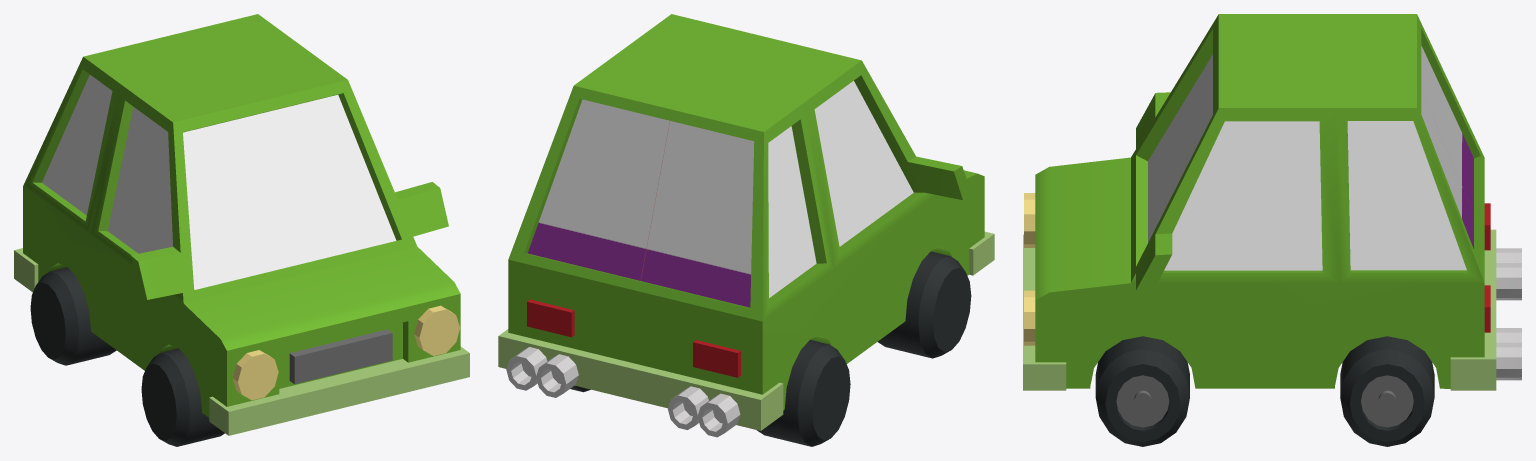
File: obj_car1_2.fbx
3 renders of one model, left to right at view 1: azimuth 30°, elevation 25°; view 2: azimuth 150°, elevation 25°; view 3: azimuth 270°, elevation 25°, orthographic. The views are drawn at different scales.
Visible parts, largest first — view 1: obj_car1_2; view 2: obj_car1_2; view 3: obj_car1_2.
Part boxes in pixels (<box>): obj_car1_2: <box>14,14,469,446</box>; obj_car1_2: <box>498,14,994,446</box>; obj_car1_2: <box>1023,14,1521,446</box>.
Bounding box in the file's own units: 1.34 × 1.22 × 1.74.
2 materials, 2 textured.
